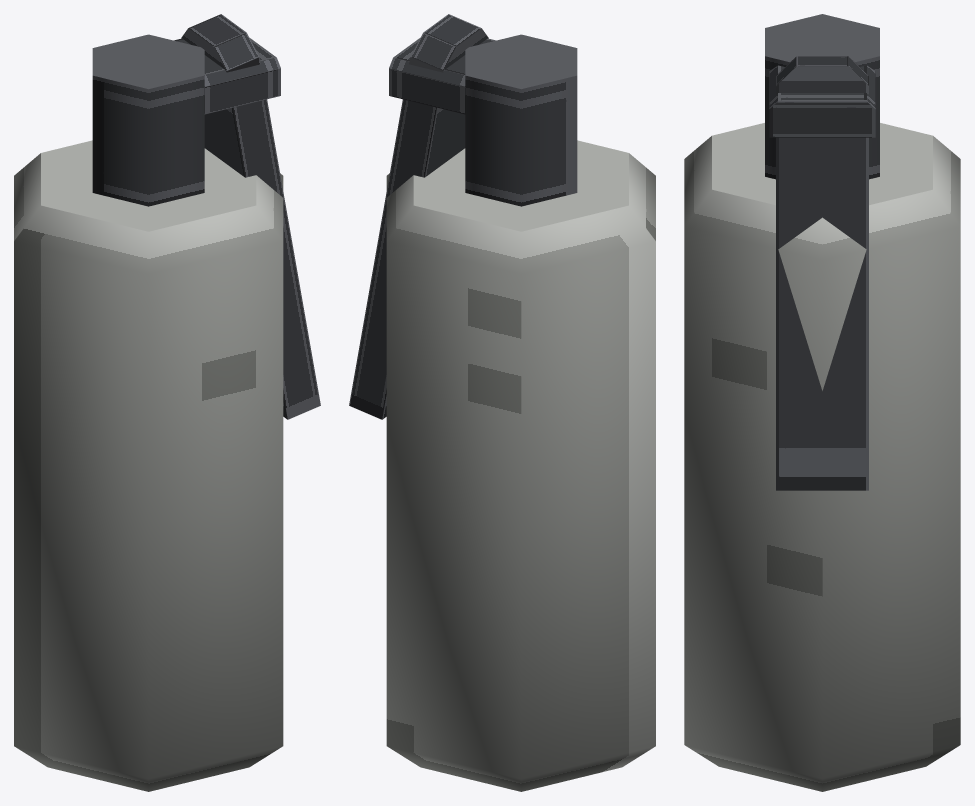
File: Flashbang.glb
The picture shows the model from 3 angles, left to right: view 1: azimuth 30°, elevation 25°; view 2: azimuth 150°, elevation 25°; view 3: azimuth 270°, elevation 25°; orthographic projection. The views are drawn at different scales.
Parts seen in each view (by area): view 1: Flashbang; view 2: Flashbang; view 3: Flashbang.
Part boxes in pixels (x1,y1,x2,y2): Flashbang: (14,14,320,791); Flashbang: (349,14,655,791); Flashbang: (684,14,960,791).
Bounding box in the file's own units: 0.0507 × 0.119 × 0.0416.
Materials: 1 (1 with a texture image).
